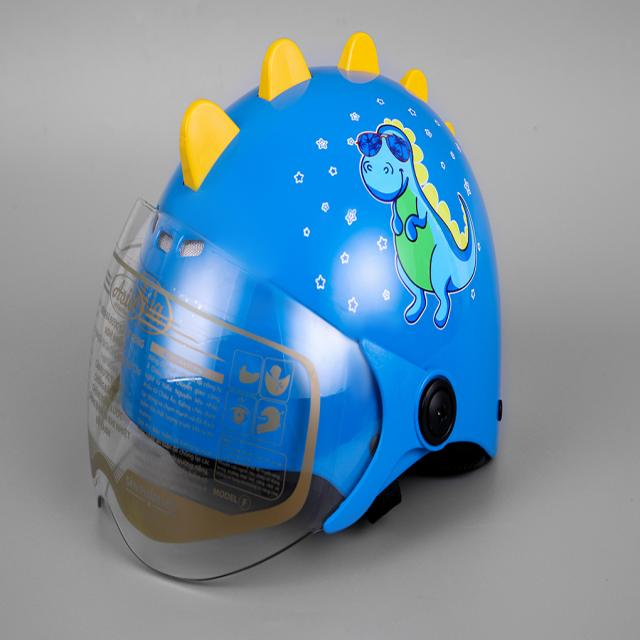Helmet: (82, 28, 510, 584)
